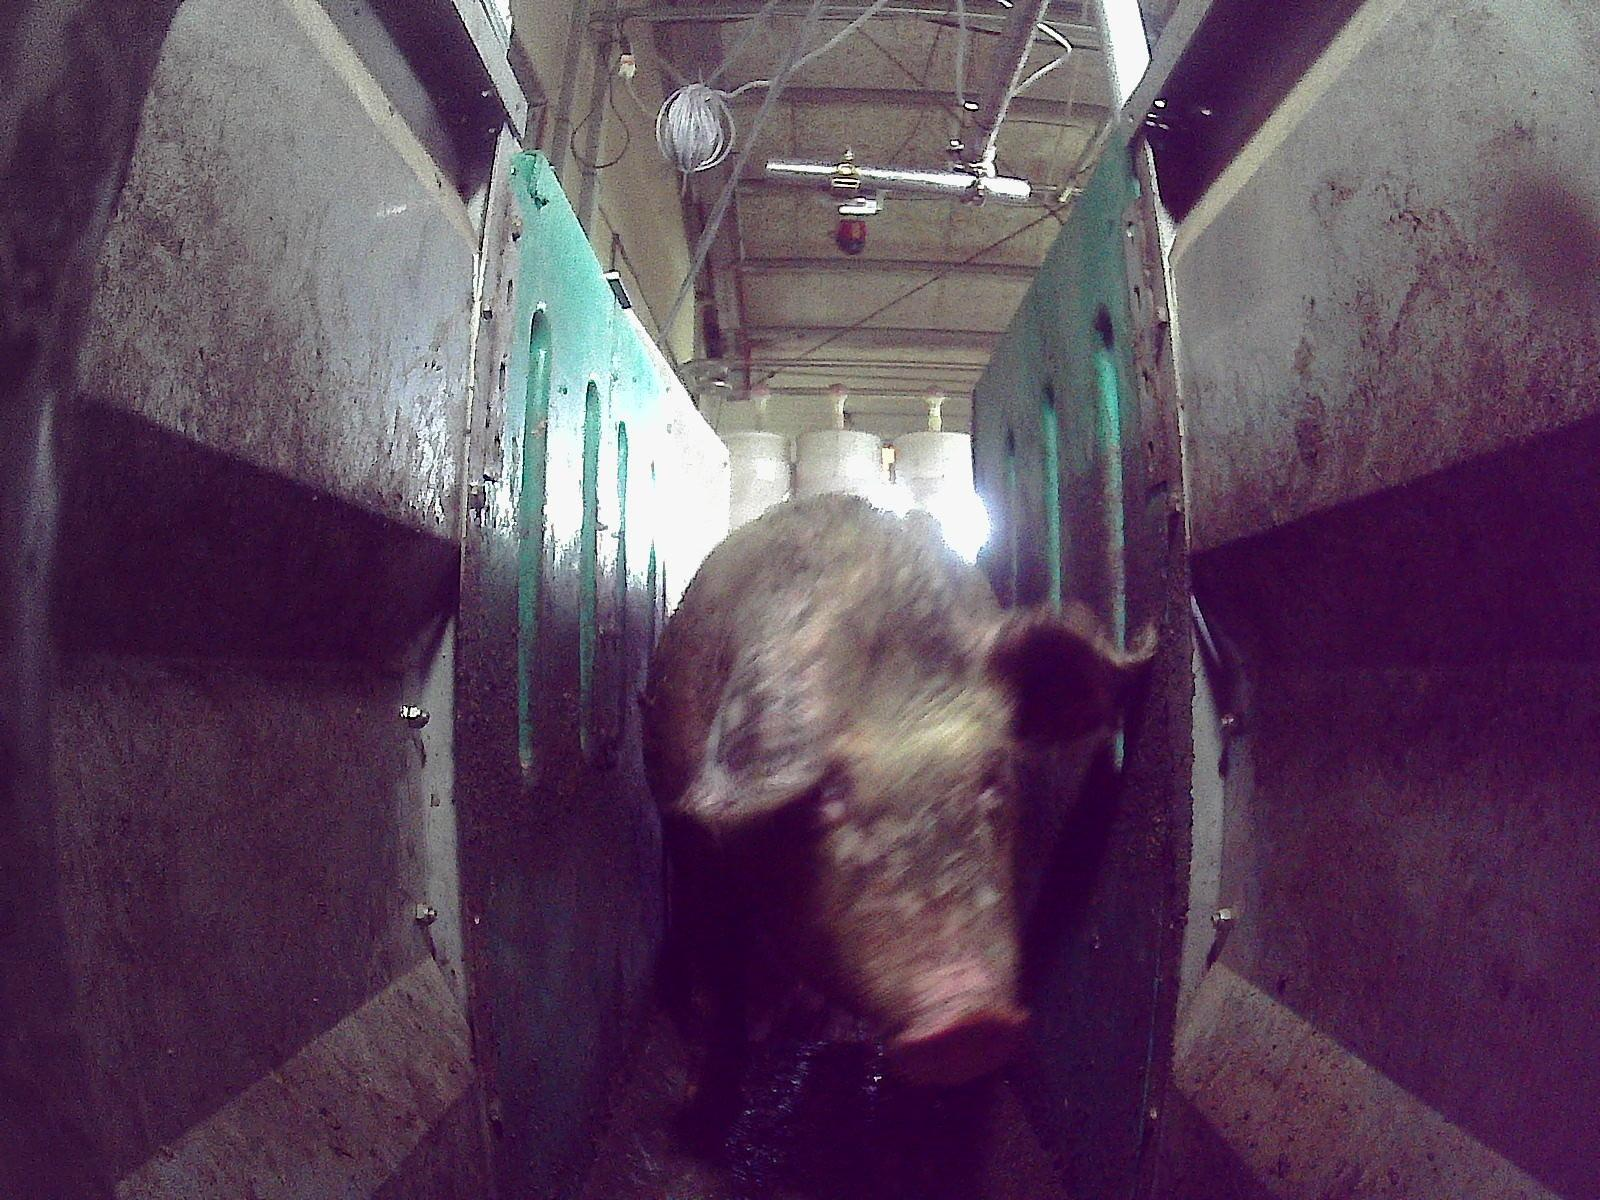Face: (739, 587, 1038, 1086)
